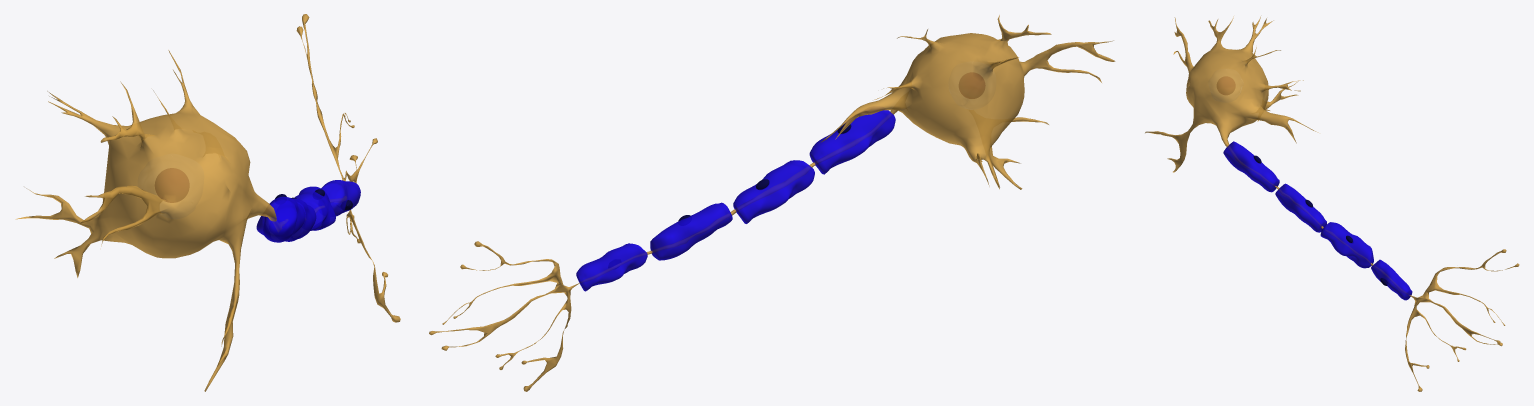
File: Neuron.glb
The picture shows the model from 3 angles, left to right: view 1: azimuth 30°, elevation 25°; view 2: azimuth 150°, elevation 25°; view 3: azimuth 270°, elevation 25°; orthographic projection. The views are drawn at different scales.
Visible parts, largest first — view 1: Sphere, Sphere.013, Sphere.004, Sphere.003, Sphere.001, Sphere.005, Sphere.011, Sphere.002; view 2: Sphere, Sphere.013, Sphere.004, Sphere.002, Sphere.003, Sphere.005; view 3: Sphere, Sphere.013, Sphere.003, Sphere.004, Sphere.002, Sphere.005.
Part boxes in pixels (x1,y1,x2,y2): Sphere: (15,50,276,391); Sphere.013: (274,20,400,322); Sphere.004: (256,196,305,242); Sphere.003: (295,186,335,230); Sphere.001: (155,168,188,202); Sphere.005: (321,180,360,216); Sphere.011: (100,81,145,142); Sphere.002: (285,198,316,241); Sphere: (821,29,1115,189); Sphere.013: (429,111,892,391); Sphere.004: (809,110,895,174); Sphere.002: (733,160,814,223); Sphere.003: (650,202,732,260); Sphere.005: (576,243,647,291); Sphere: (1145,16,1318,172); Sphere.013: (1225,144,1519,391); Sphere.003: (1320,222,1373,268); Sphere.004: (1223,141,1279,192); Sphere.002: (1275,183,1326,232); Sphere.005: (1371,259,1412,300).
Bounding box in the file's own units: 4.65 × 3.55 × 4.66.
